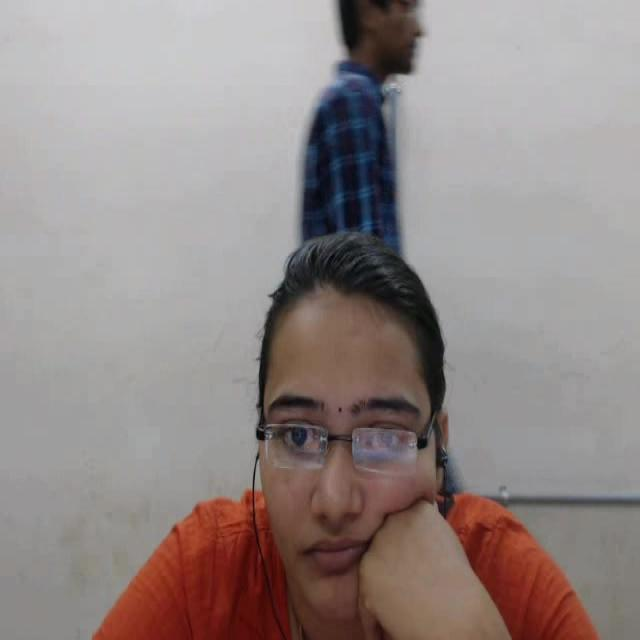Bored: (237, 206, 480, 640)
